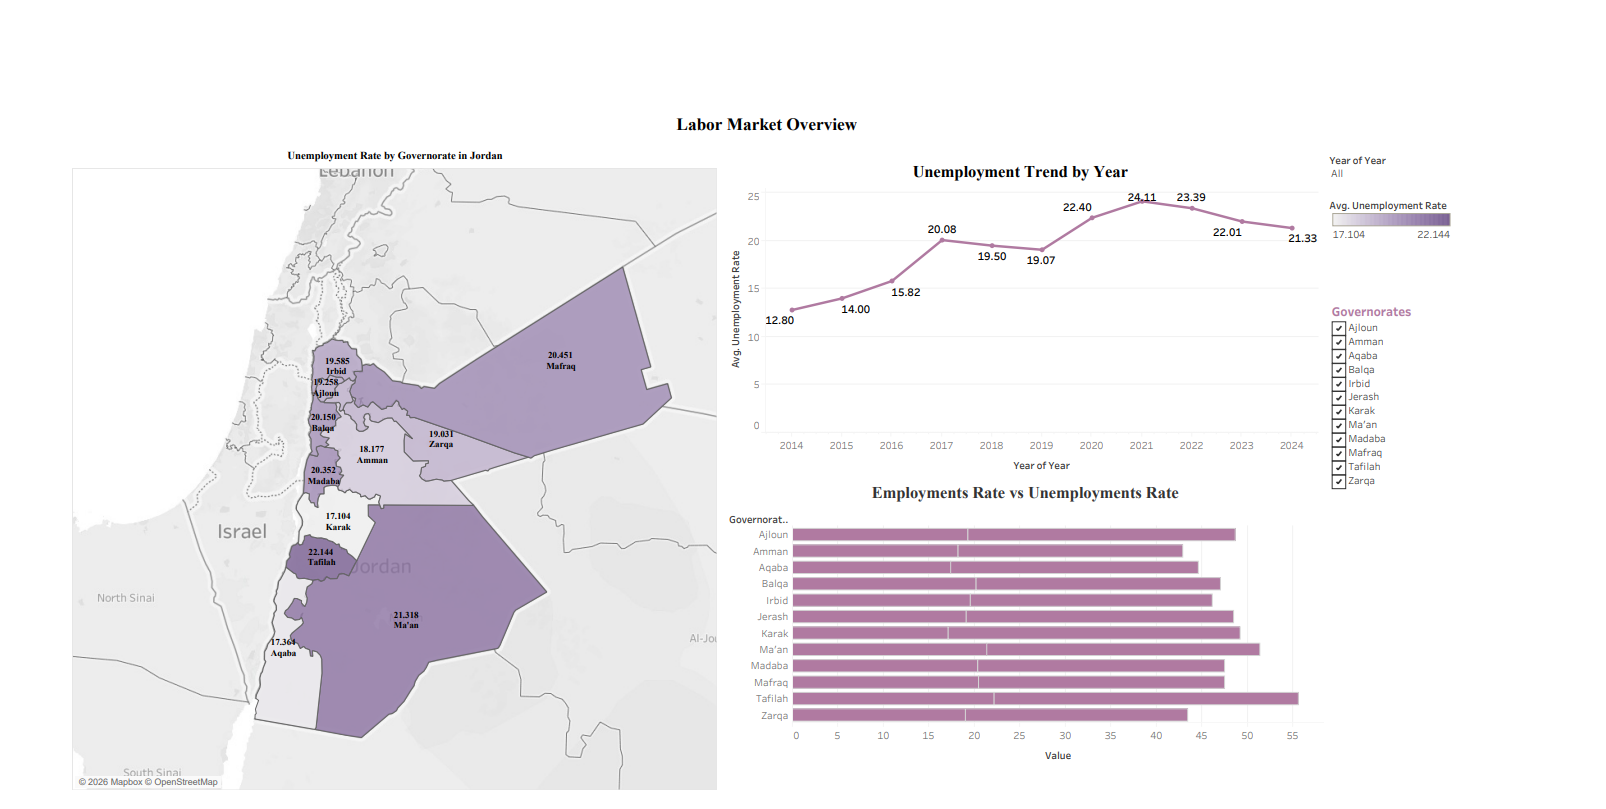

What the dashboard file says about the page in this screenshot:
{"tool":"tableau","page":{"name":"Labor Market Overview","canvas":[1700,850],"ordinal":1},"visuals":[{"type":"text","box":[8,8,1684,60]},{"type":"worksheet","title":"by Governorate","mark":"Automatic","box":[3,62,787,789]},{"type":"filter","title":"by Governorate","param":"[federated.0denw6l17dq23i15ebn3p0buijx1].[yr:YEAR:ok]","box":[1532,68,160,52]},{"type":"worksheet","title":"by Year","mark":"Automatic","rows":["Unemployment Rate"],"cols":["YEAR"],"box":[796,78,726,391]},{"type":"legend","title":"by Governorate","param":"[federated.0denw6l17dq23i15ebn3p0buijx1].[avg:Unemployment Rate:qk]","box":[1532,120,160,65]},{"type":"filter","title":"by Year","param":"[federated.0denw6l17dq23i15ebn3p0buijx1].[none:Governorates:nk]","box":[1539,255,160,275]},{"type":"worksheet","title":"Employments Rate vs Unemployments Rate","mark":"Automatic","rows":["Governorates"],"box":[801,470,728,366]}]}

Visuals, with their boxes in screenshot pixels (x1, y1, x2, y2), scaled from the page's 1700x850 canvas onto the 1606x809 screenshot:
text: Rect(8, 8, 1598, 65)
"by Governorate" worksheet: Rect(3, 59, 746, 808)
"by Governorate" filter: Rect(1447, 65, 1598, 114)
"by Year" worksheet: Rect(752, 74, 1438, 446)
"by Governorate" legend: Rect(1447, 114, 1598, 176)
"by Year" filter: Rect(1454, 243, 1605, 504)
"Employments Rate vs Unemployments Rate" worksheet: Rect(757, 447, 1444, 796)
